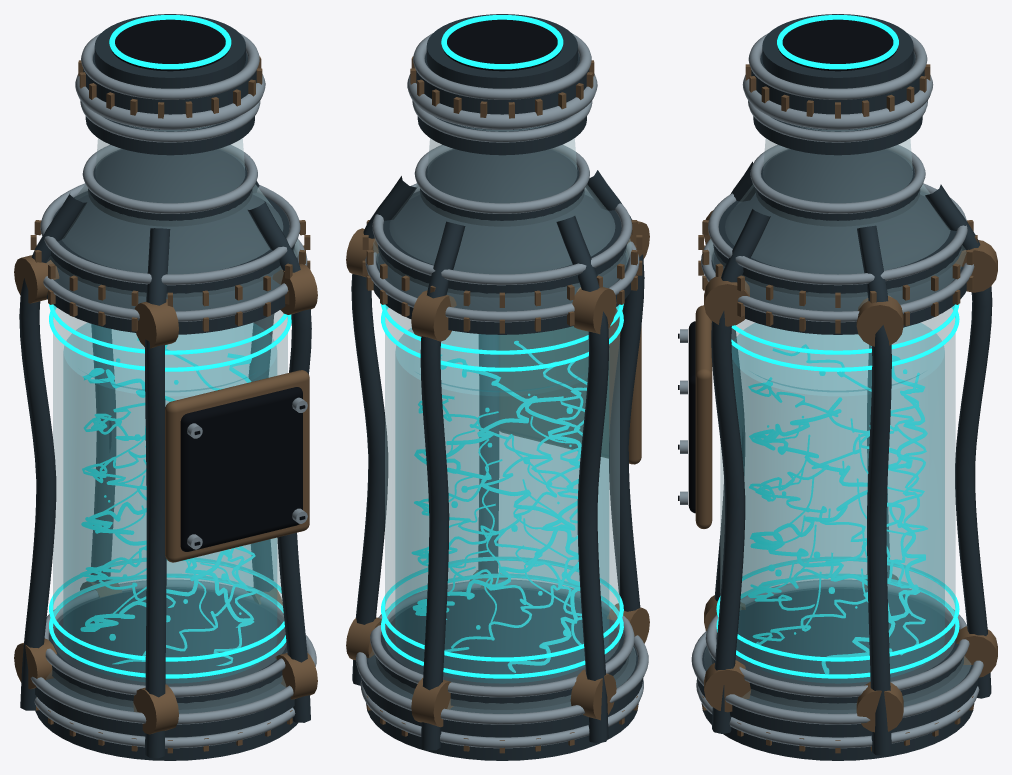
The model's file is arc-chamber.glb.
The picture shows the model from 3 angles, left to right: view 1: azimuth 30°, elevation 25°; view 2: azimuth 150°, elevation 25°; view 3: azimuth 270°, elevation 25°; orthographic projection.
Parts seen in each view (by area): view 1: Brushed titanium (×2), Optical glass, Liquid, Machined edges (×2), Aged bronze (×2), Energy (×2), LabelSurface, Ceramic inserts (×2); view 2: Brushed titanium (×2), Optical glass, Liquid, Machined edges (×2), Aged bronze (×2), Energy (×2), Ceramic inserts; view 3: Optical glass, Brushed titanium (×2), Liquid, Machined edges (×2), Energy (×2), Aged bronze (×2), Ceramic inserts (×2).
Boxes of the visible parts, x1,y1,x2,y2 form: Brushed titanium (×2): (19,14,311,760); Optical glass: (46,126,299,713); Liquid: (63,323,276,683); Machined edges (×2): (30,33,316,748); Aged bronze (×2): (14,56,317,753); Energy (×2): (49,15,291,678); LabelSurface: (193,404,297,539); Ceramic inserts (×2): (111,19,305,551); Brushed titanium (×2): (351,14,644,760); Optical glass: (368,126,635,713); Liquid: (395,326,608,683); Machined edges (×2): (356,33,648,748); Aged bronze (×2): (346,56,649,753); Energy (×2): (381,15,623,678); Ceramic inserts: (443,19,561,71); Optical glass: (704,126,970,713); Brushed titanium (×2): (697,14,992,760); Liquid: (732,323,944,683); Machined edges (×2): (680,33,983,748); Energy (×2): (716,15,959,678); Aged bronze (×2): (695,64,997,753); Ceramic inserts (×2): (678,19,897,513).
Bounding box in the file's own units: 1.25 × 3.11 × 1.36.
